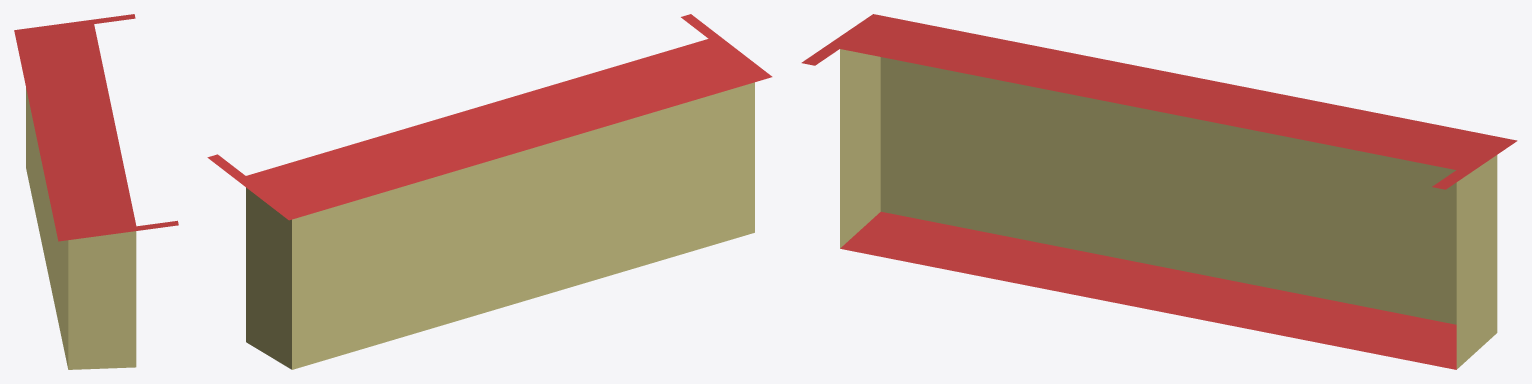
3 views of the same model, side by side, from view 1: azimuth 30°, elevation 25°; view 2: azimuth 150°, elevation 25°; view 3: azimuth 270°, elevation 25° (orthographic). The views are drawn at different scales.
Size of the model in its own units: 14.7 by 23.15 by 7.32.
